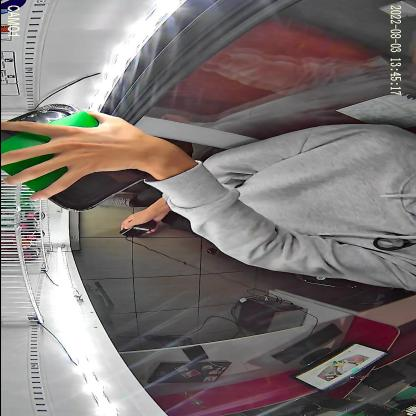green: (0, 104, 151, 213)
